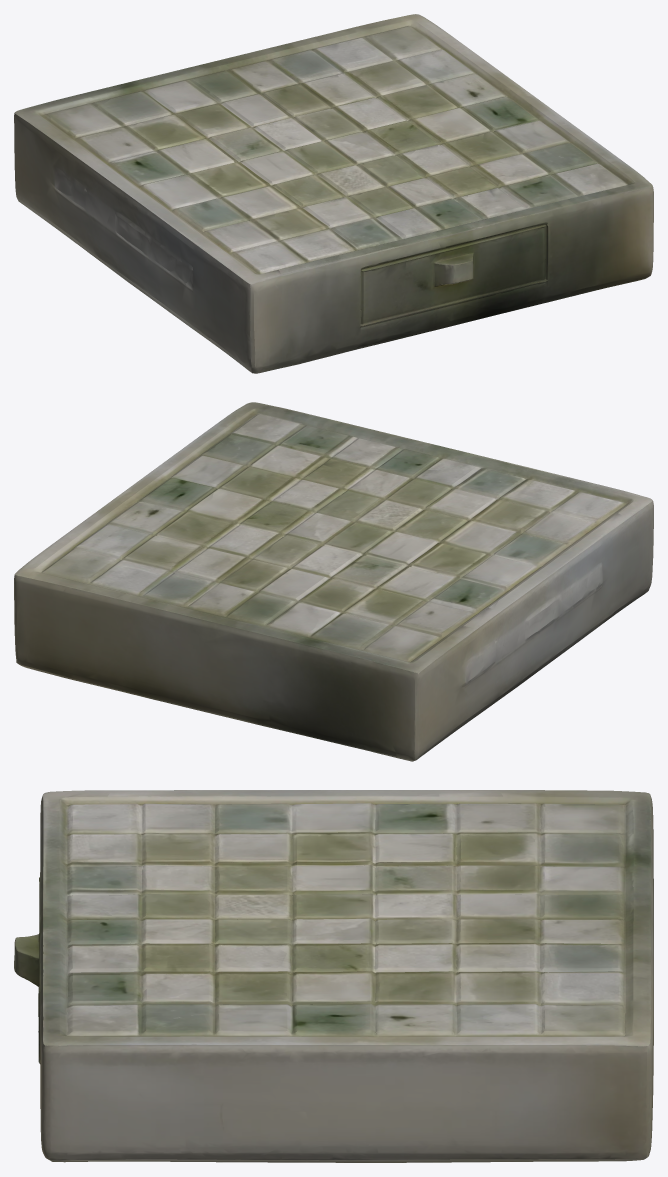
Rendered from chinese-board.glb.
3 views of the same model, one above another, from view 1: azimuth 30°, elevation 25°; view 2: azimuth 150°, elevation 25°; view 3: azimuth 270°, elevation 25° (orthographic). The views are drawn at different scales.
Visible parts, largest first — view 1: model; view 2: model; view 3: model.
Boxes of the visible parts, <box> form: model: <box>14,14,653,373</box>; model: <box>14,402,653,761</box>; model: <box>14,790,653,1162</box>.
Size of the model in its own units: 1.81 by 0.4352 by 1.9.
Materials: 1 (1 with a texture image).
